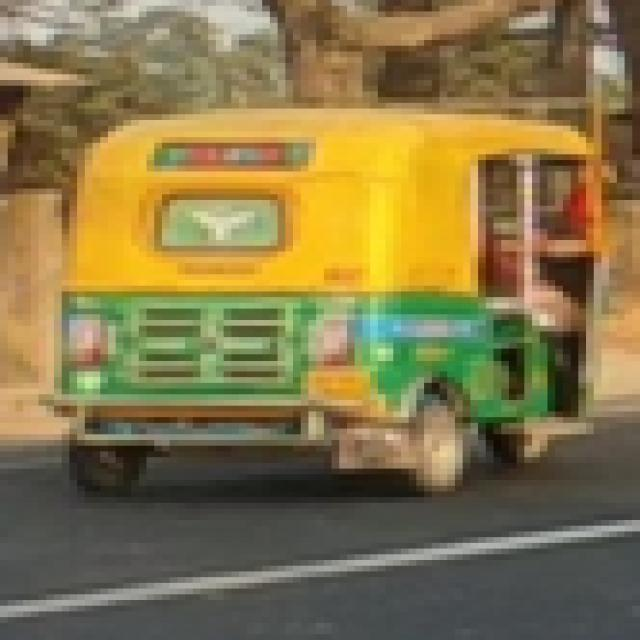autorickshaw: (49, 101, 621, 517)
